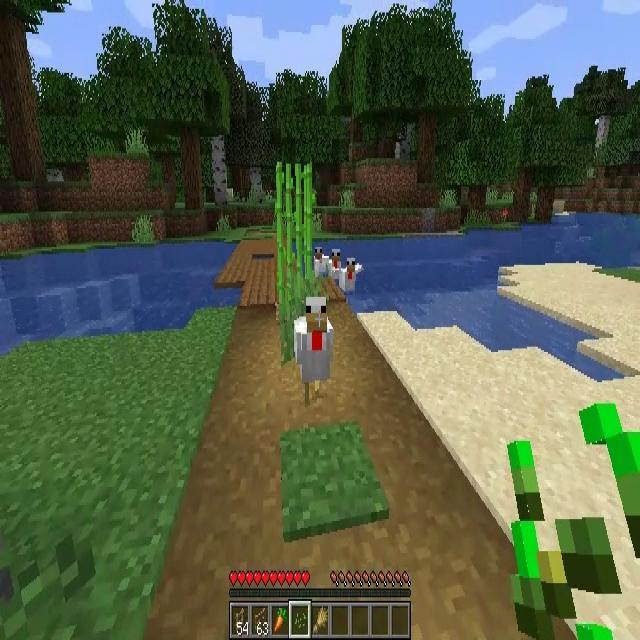duck: (294, 297, 334, 406), (340, 258, 363, 296), (315, 246, 329, 278), (330, 248, 342, 280)
